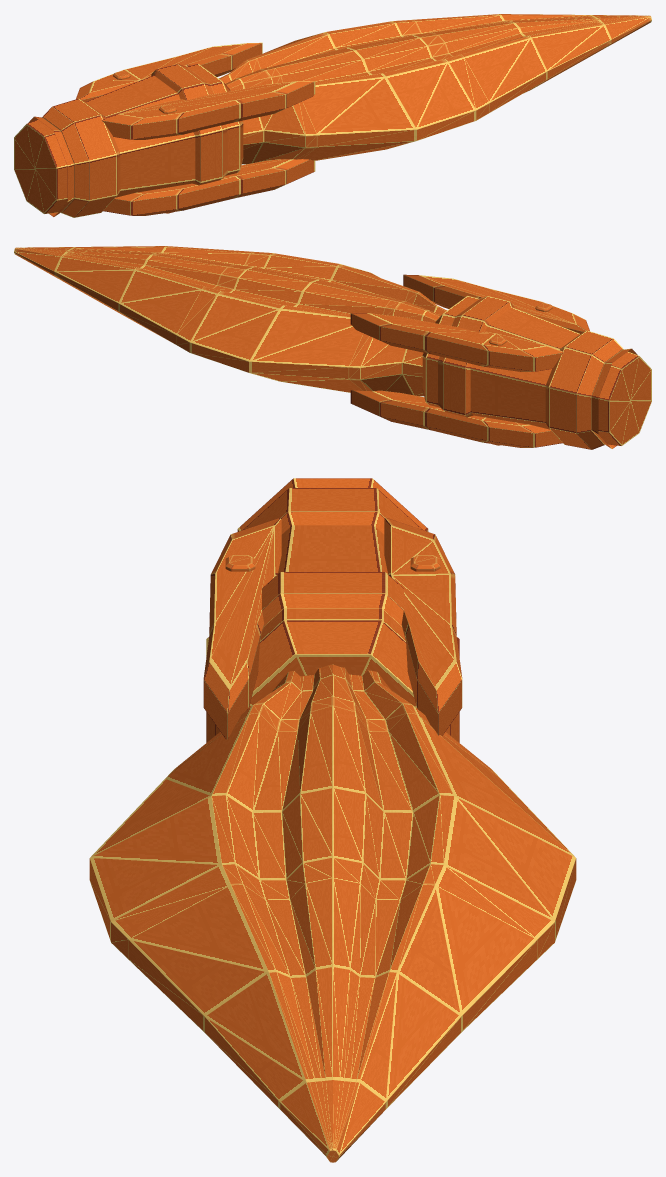
Rendered from bench_xuantie_spear_1_hot.obj.
3 views of the same model, one above another, from view 1: azimuth 30°, elevation 25°; view 2: azimuth 150°, elevation 25°; view 3: azimuth 270°, elevation 25° (orthographic). The views are drawn at different scales.
Visible parts, largest first — view 1: geometry; view 2: geometry; view 3: geometry.
Part boxes in pixels (x1,y1,x2,y2): geometry: [14, 14, 651, 217]; geometry: [14, 246, 651, 449]; geometry: [89, 478, 576, 1162].
Size of the model in its own units: 0.75 by 0.1336 by 0.2568.
